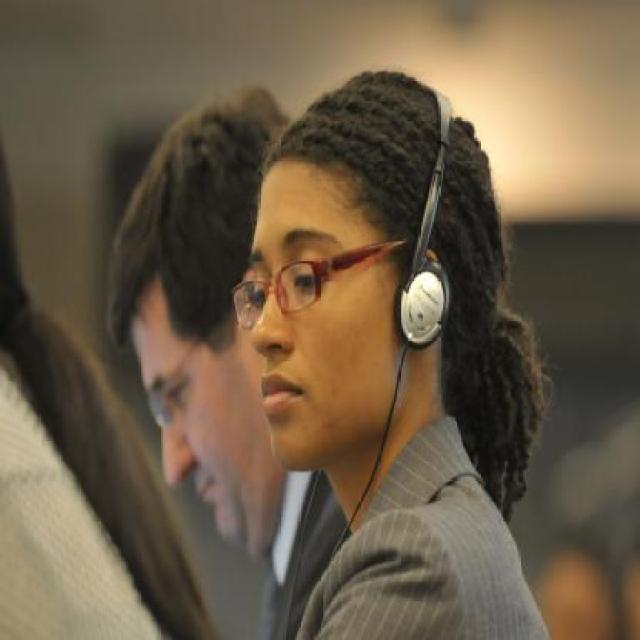earphone: (384, 69, 471, 362)
